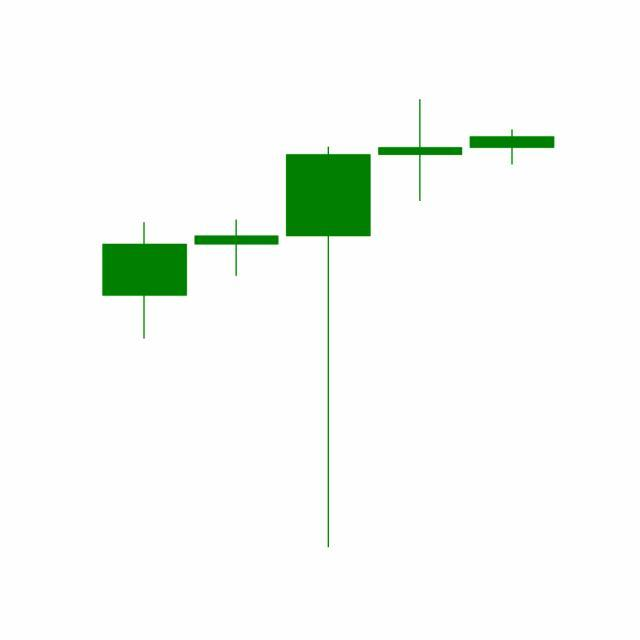Spinning Top: (374, 99, 468, 204)
